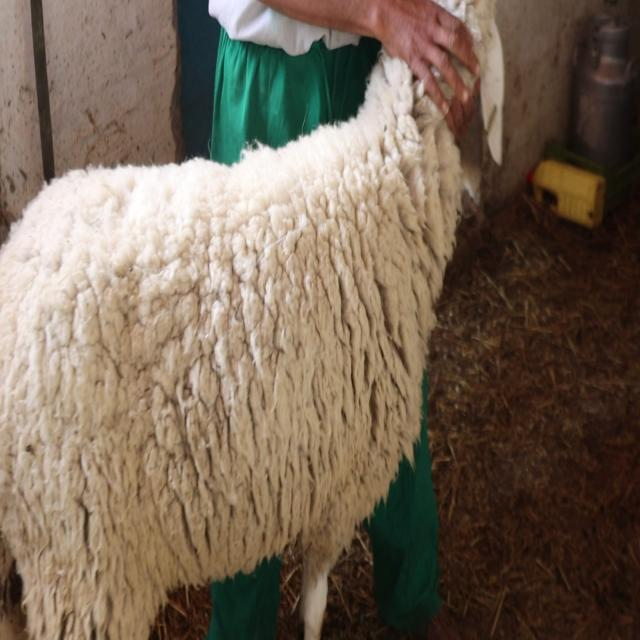Score_3: (0, 56, 466, 639)
